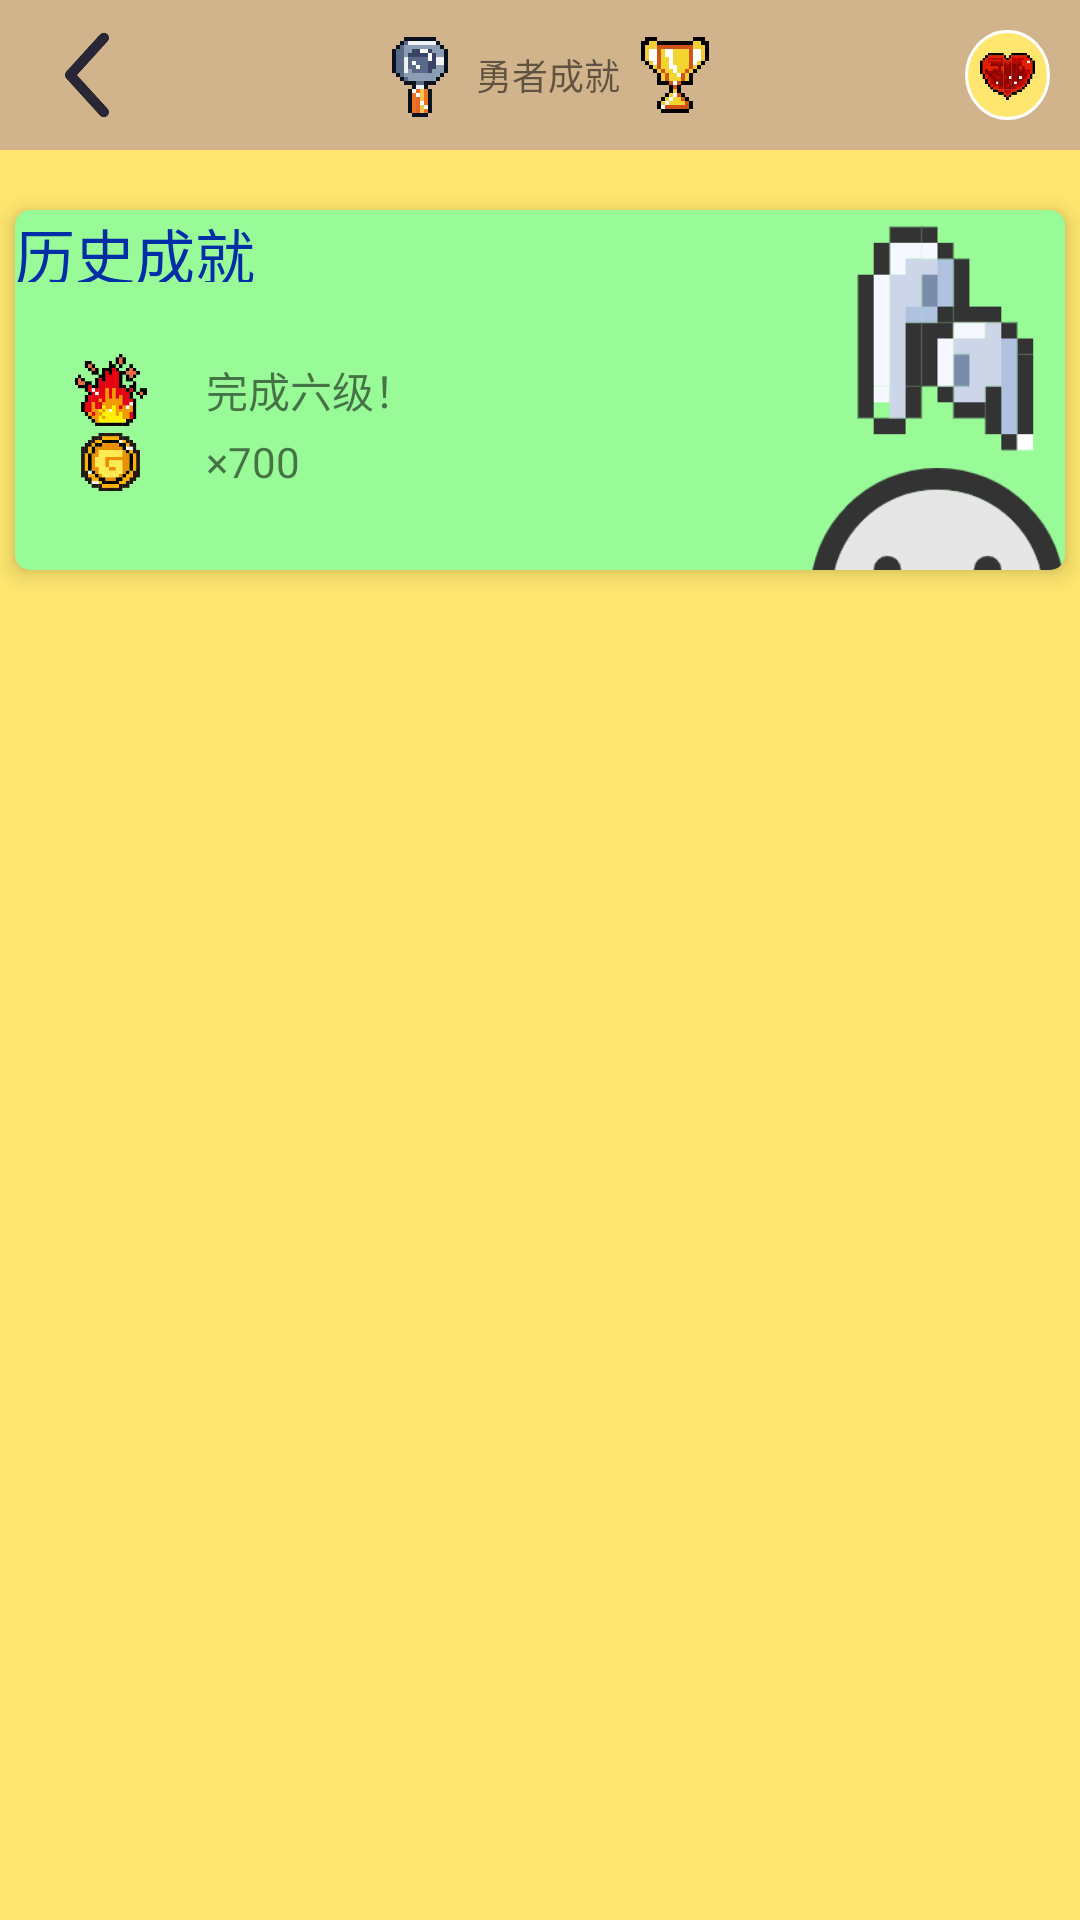

Icon bounding boxes for this 1080*1920 phone screenshot, format (x1, y1, x2, y2):
back: (65, 33, 109, 117)
champion: (641, 37, 709, 113)
coin pixel: (81, 433, 140, 491)
earphone: (857, 226, 1034, 451)
fire pixel: (75, 354, 147, 426)
glass: (392, 37, 448, 117)
